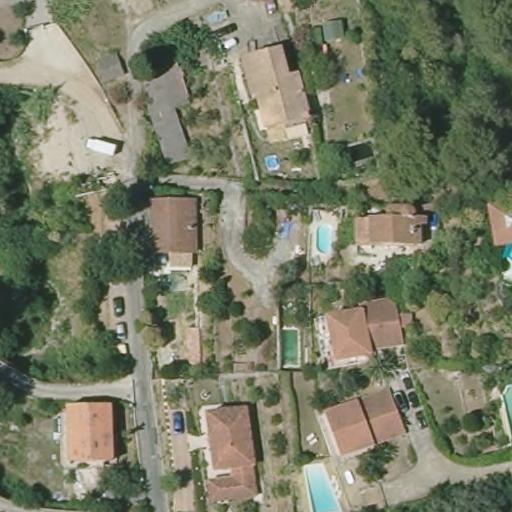pool: (298, 454, 351, 511), (306, 217, 340, 257), (257, 151, 282, 171)
